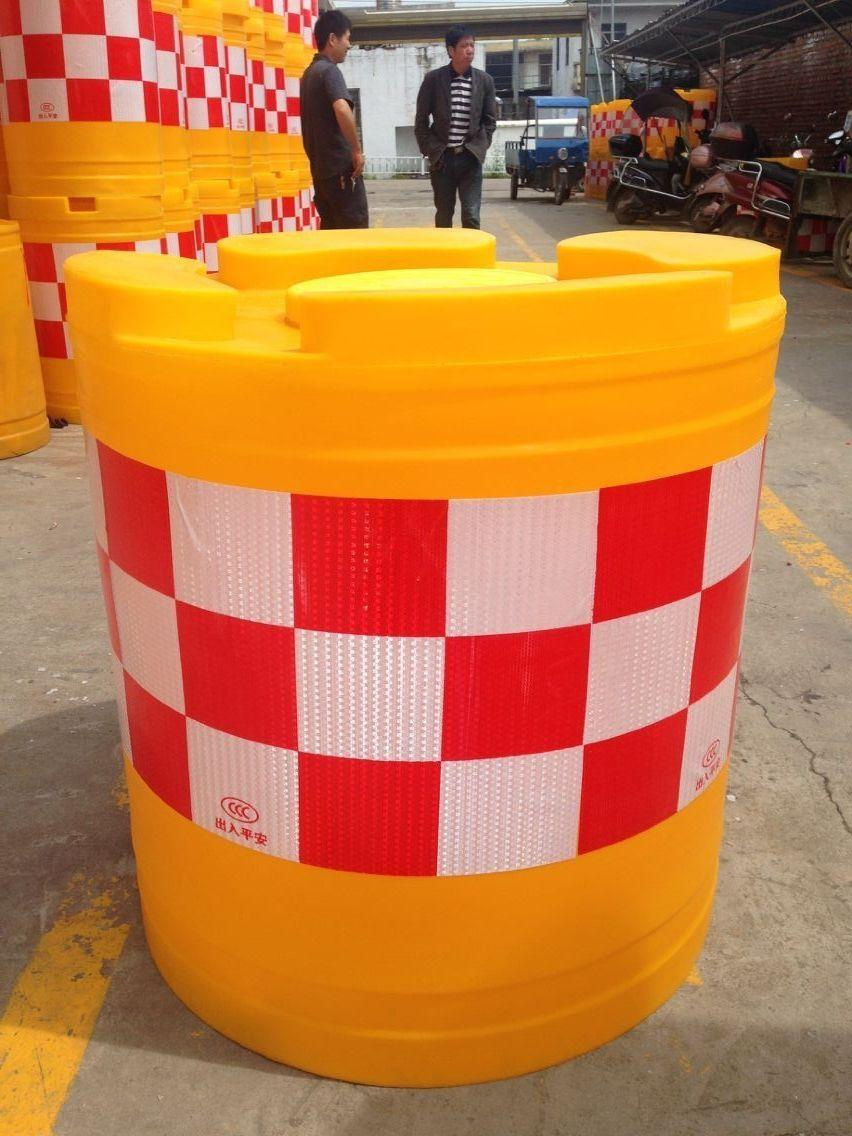sign: (72, 216, 764, 1093)
